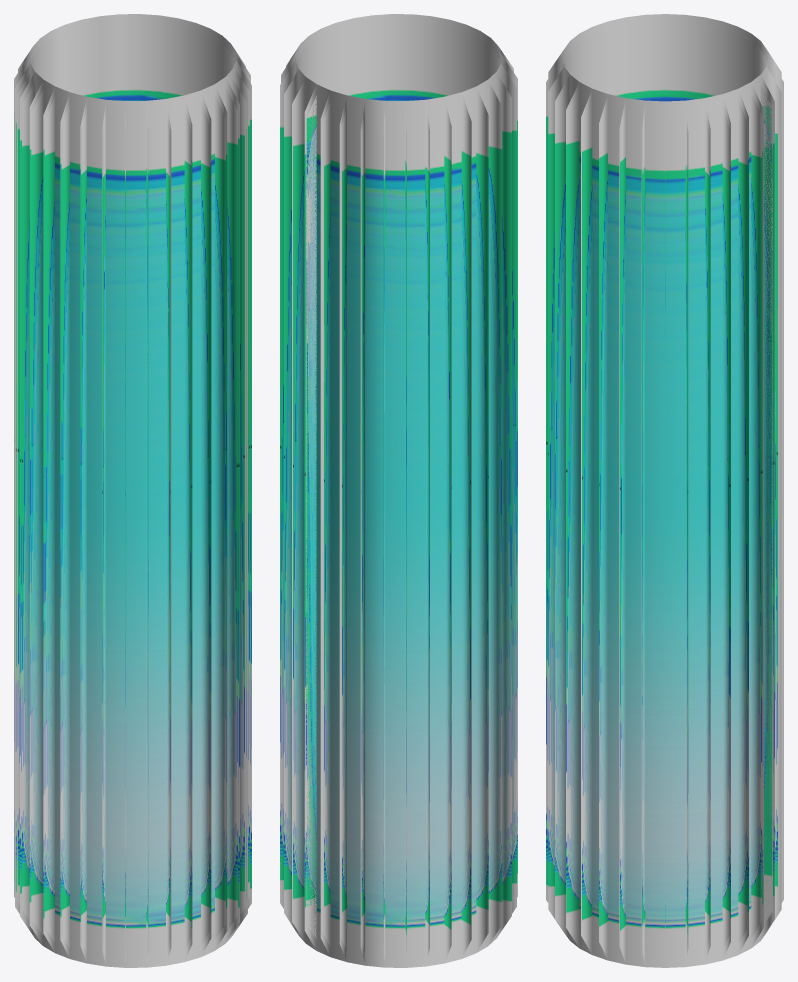
Rendered from beacon.fbx.
3 renders of one model, left to right at view 1: azimuth 30°, elevation 25°; view 2: azimuth 150°, elevation 25°; view 3: azimuth 270°, elevation 25°, orthographic.
Visible parts, largest first — view 1: Cylinder; view 2: Cylinder; view 3: Cylinder.
Boxes of the visible parts, <box> form: Cylinder: <box>14,14,251,967</box>; Cylinder: <box>280,14,517,967</box>; Cylinder: <box>546,14,783,967</box>.
Bounding box in the file's own units: 55.61 × 223 × 55.5.
Materials: 1 (1 with a texture image).
